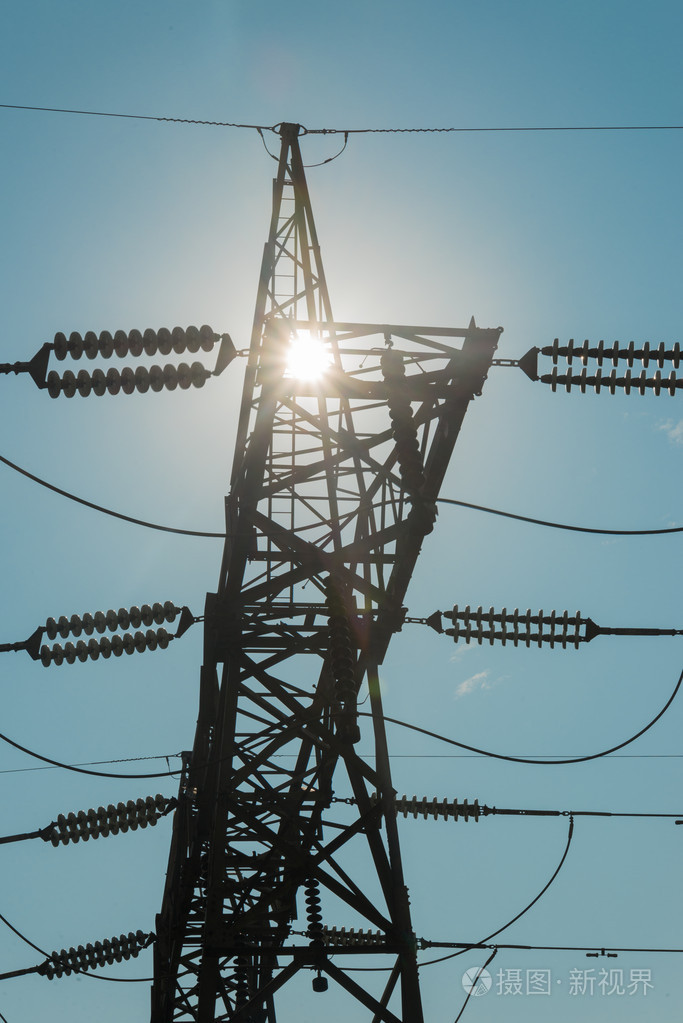insulator: (45, 322, 220, 399), (34, 599, 182, 670), (539, 337, 683, 395), (447, 604, 585, 653), (49, 794, 164, 847), (51, 924, 143, 983), (398, 793, 478, 822), (301, 883, 328, 934)
